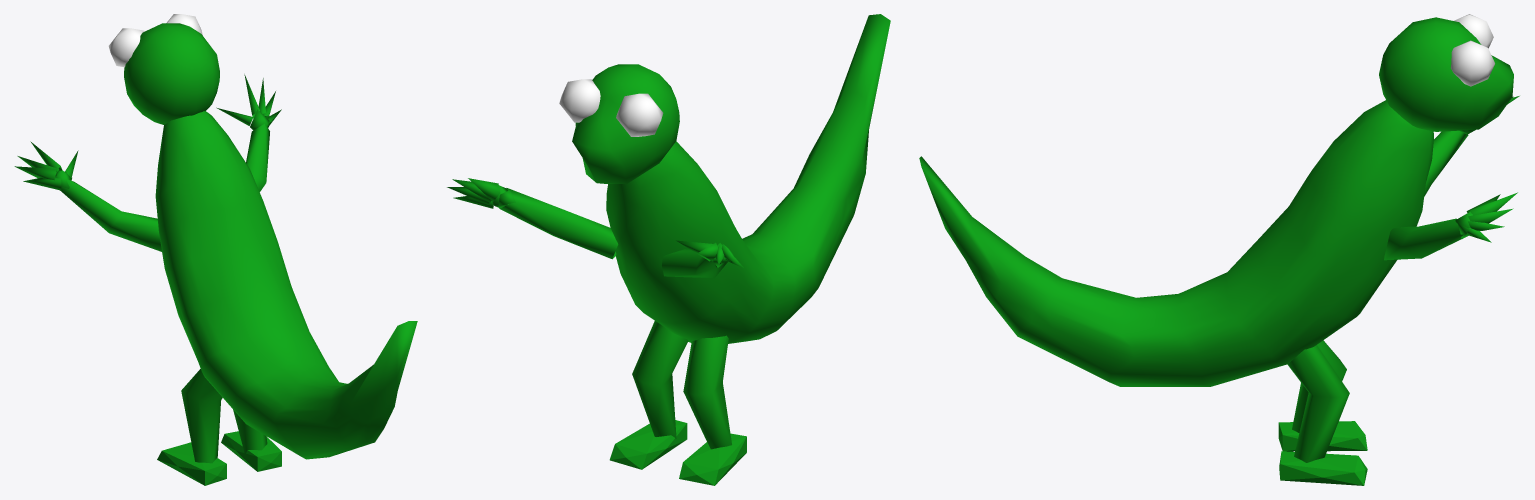
Rendered from green_monster.obj.
The picture shows the model from 3 angles, left to right: view 1: azimuth 30°, elevation 25°; view 2: azimuth 150°, elevation 25°; view 3: azimuth 270°, elevation 25°; orthographic projection. The views are drawn at different scales.
Parts seen in each view (by area): view 1: Sphere_4, Sphere_2, Sphere_17, Sphere_6, Cube_3_1, Cube_3, Sphere_6_1, Sphere_1_1, Sphere_17_1; view 2: Sphere_4, Sphere_2, Sphere_17, Sphere_17_1, Sphere_6_1, Cube_3, Cube_3_1, Sphere_1_1, Sphere_1, Sphere_6; view 3: Sphere_4, Sphere_2, Sphere_17_1, Cube_3, Sphere_6_1, Sphere_1, Cube_3_1, Sphere_6, Sphere_17, Sphere_1_1.
Part boxes in pixels (<box>): Sphere_4: <box>155,111,417,459</box>; Sphere_2: <box>124,23,219,124</box>; Sphere_17: <box>181,369,222,463</box>; Sphere_6: <box>60,179,161,251</box>; Cube_3_1: <box>157,442,226,485</box>; Cube_3: <box>221,431,281,471</box>; Sphere_6_1: <box>246,123,269,191</box>; Sphere_1_1: <box>108,28,144,67</box>; Sphere_17_1: <box>233,409,267,455</box>; Sphere_4: <box>606,14,890,343</box>; Sphere_2: <box>572,64,679,183</box>; Sphere_17: <box>683,335,731,449</box>; Sphere_17_1: <box>632,321,688,438</box>; Sphere_6_1: <box>499,188,618,259</box>; Cube_3: <box>609,420,687,469</box>; Cube_3_1: <box>679,433,746,485</box>; Sphere_1_1: <box>616,93,663,136</box>; Sphere_1: <box>559,79,600,122</box>; Sphere_6: <box>662,249,727,278</box>; Sphere_4: <box>919,100,1433,386</box>; Sphere_2: <box>1379,17,1513,131</box>; Sphere_17_1: <box>1287,345,1349,462</box>; Cube_3: <box>1279,451,1367,485</box>; Sphere_6_1: <box>1384,218,1468,260</box>; Sphere_1: <box>1451,40,1494,86</box>; Cube_3_1: <box>1278,421,1367,451</box>; Sphere_6: <box>1424,130,1468,196</box>; Sphere_17: <box>1292,340,1346,432</box>; Sphere_1_1: <box>1454,14,1493,48</box>.
Bounding box in the file's own units: 2.42 × 3.46 × 4.31.
